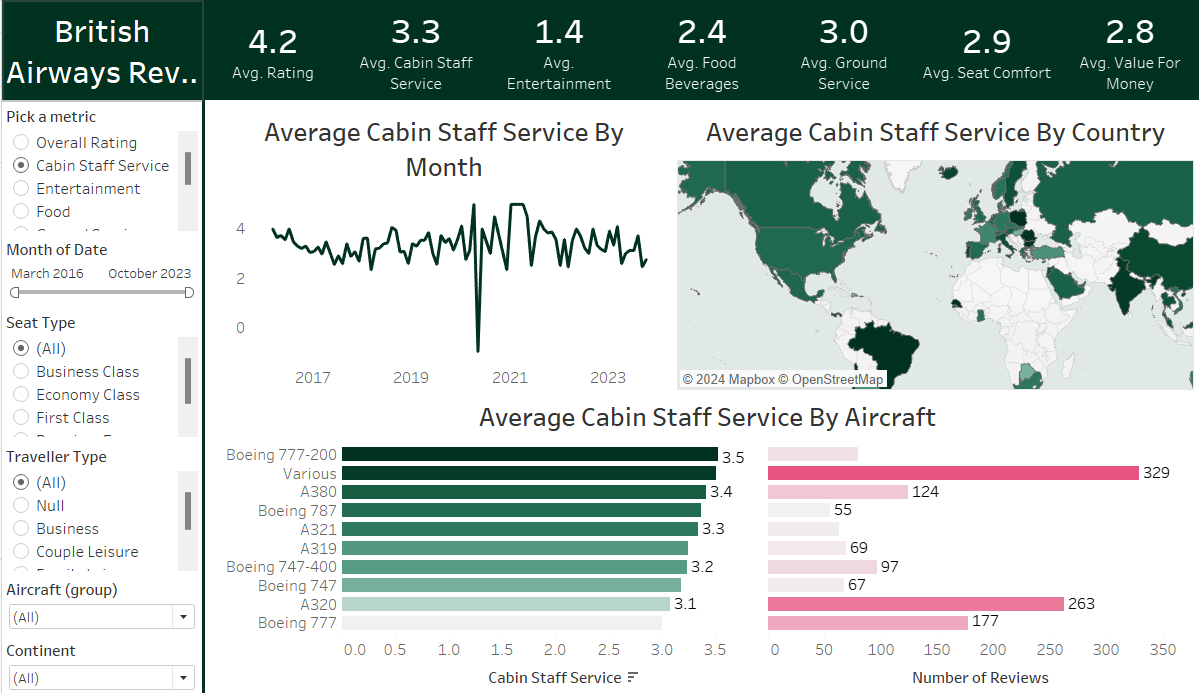

The page's visual inventory and layout, read from the dashboard file:
{"tool":"tableau","page":{"name":"Dashboard 1","canvas":[1200,700],"ordinal":0},"visuals":[{"type":"text","box":[0,0,200,100]},{"type":"worksheet","title":"summary","mark":"Automatic","box":[200,0,999,100]},{"type":"blank","box":[200,100,3,600]},{"type":"parameter","param":"[Parameters].[Parameter 1]","box":[0,102,200,133.3]},{"type":"worksheet","title":"Month","mark":"Automatic","rows":["Calculation_467529988195790848"],"cols":["date"],"box":[220,110,444,280]},{"type":"worksheet","title":"Map","mark":"Automatic","box":[675,110,517,280]},{"type":"filter","title":"Map","param":"[federated.1pcnwoo1g4pvph10ksfk00hadk1e].[tmn:date:qk]","box":[0,235.3,200,73]},{"type":"filter","title":"Map","param":"[federated.1pcnwoo1g4pvph10ksfk00hadk1e].[none:seat_type:nk]","box":[0,308.3,200,133.3]},{"type":"worksheet","title":"Aircraft","mark":"Automatic","cols":["Calculation_467529988195790848","ba_reviews.csv_693B5AD7C0CC43C9AB5E245D8FB67E5F"],"box":[220,395,971,300]},{"type":"filter","title":"Map","param":"[federated.1pcnwoo1g4pvph10ksfk00hadk1e].[none:traveller_type:nk]","box":[0,441.7,200,133.3]},{"type":"filter","title":"Map","param":"[federated.1pcnwoo1g4pvph10ksfk00hadk1e].[Aircraft (group)]","box":[0,575,200,61]},{"type":"filter","title":"Map","param":"[federated.1pcnwoo1g4pvph10ksfk00hadk1e].[none:Continent:nk]","box":[0,636,200,61]}]}

Visuals, with their boxes in screenshot pixels (x1, y1, x2, y2), scaled from the page's 1200x700 canvas onto the 1199x693 screenshot:
text: 0, 0, 200, 99
"summary" worksheet: 200, 0, 1198, 99
blank: 200, 99, 203, 692
parameter: 0, 101, 200, 233
"Month" worksheet: 220, 109, 663, 386
"Map" worksheet: 674, 109, 1191, 386
"Map" filter: 0, 233, 200, 305
"Map" filter: 0, 305, 200, 437
"Aircraft" worksheet: 220, 391, 1190, 688
"Map" filter: 0, 437, 200, 569
"Map" filter: 0, 569, 200, 630
"Map" filter: 0, 630, 200, 690
